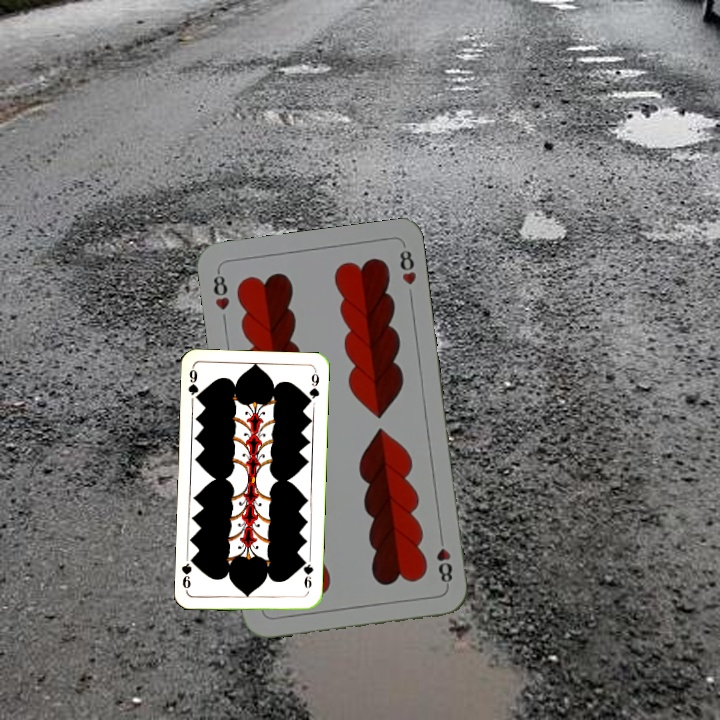G9: (184, 364, 203, 404), (299, 556, 315, 596)
H8: (432, 530, 455, 589), (209, 267, 232, 313)
